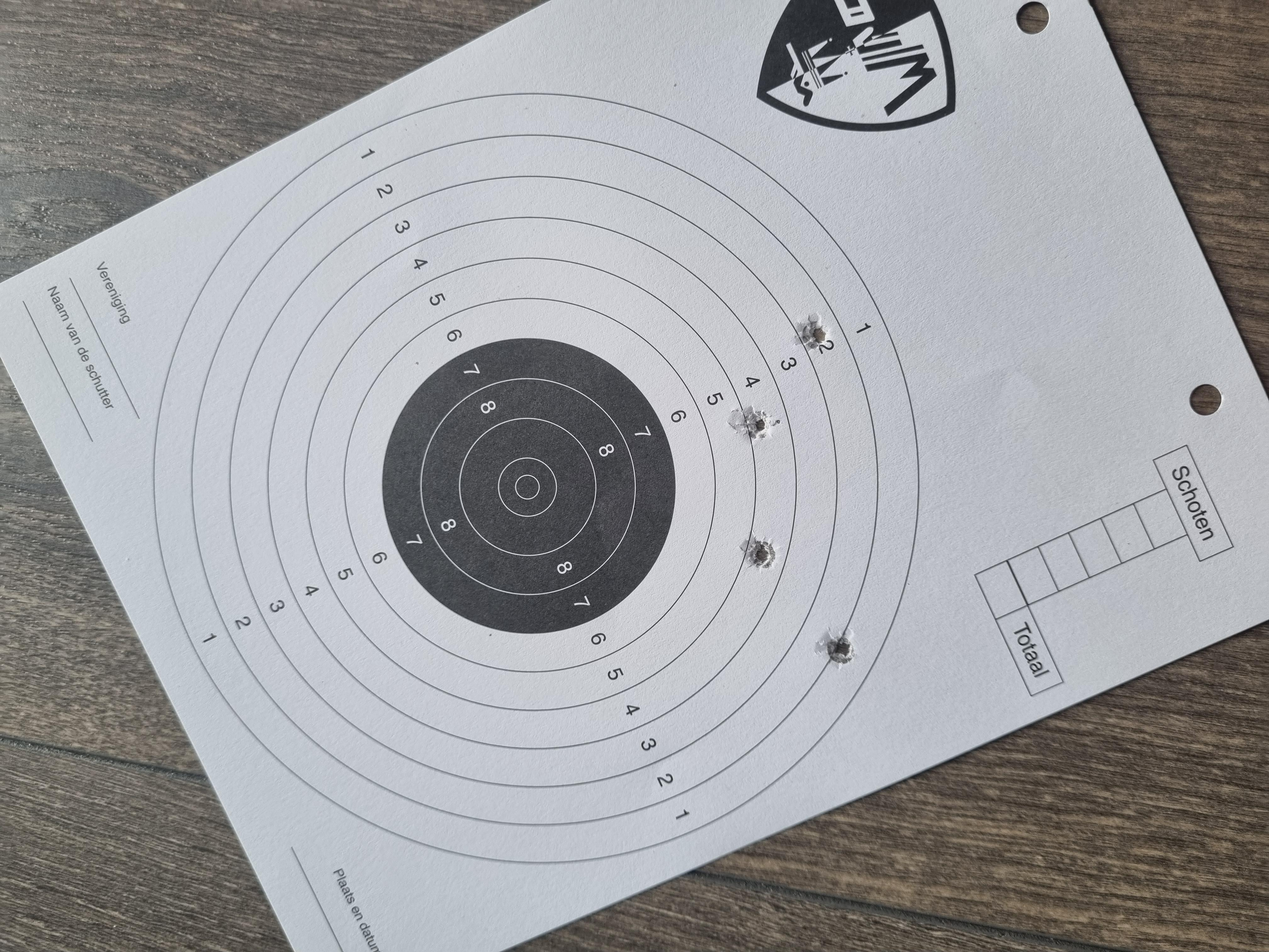hole: (382, 612, 433, 642), (509, 555, 562, 583), (682, 546, 725, 579), (802, 595, 848, 620)
